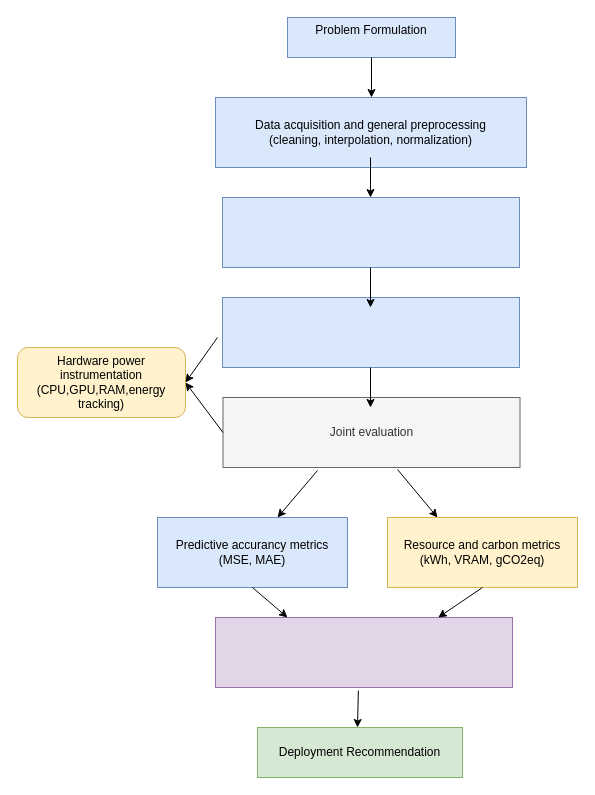
This 595x795 diagram has some shape labels left out. The centre of each missing label's shape, as x and y in pixels:
"Energy Accuracy Pareto Front Analysis" belongs at pixel 363 652.
"Multi-Architecture Model training (candidate forecasting models)" belongs at pixel 371 332.
"Sliding window, sequence construction (X -> Y windowing)" belongs at pixel 371 232.
